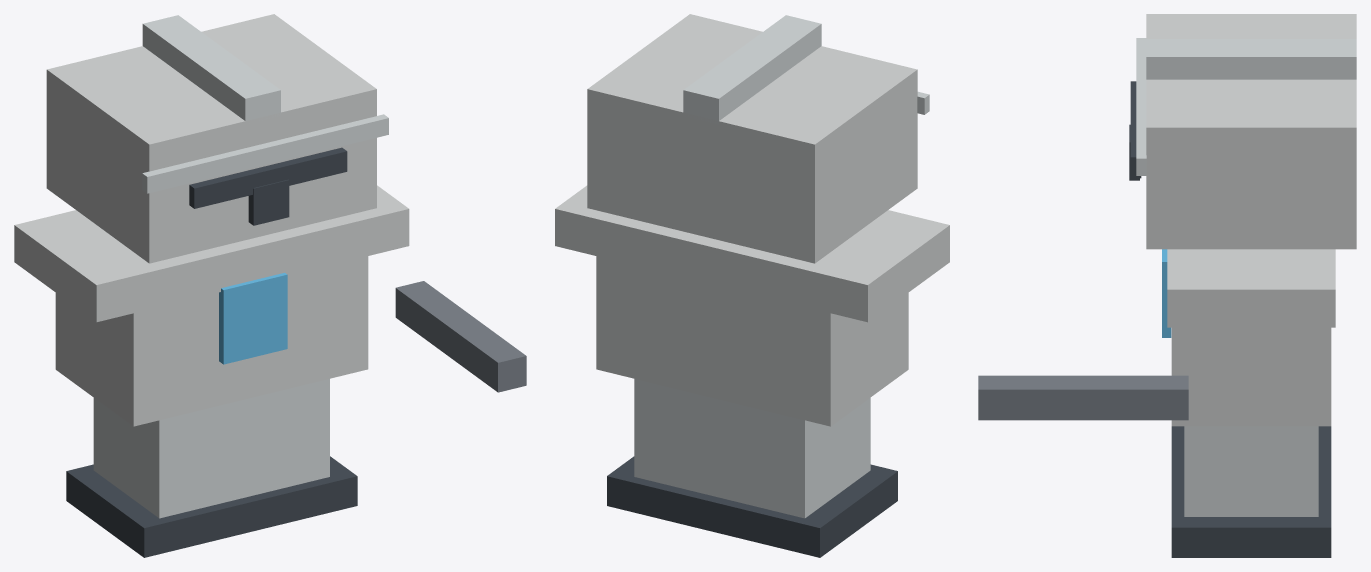
File: cubecraft_clone_rifleman_01.glb
The picture shows the model from 3 angles, left to right: view 1: azimuth 30°, elevation 25°; view 2: azimuth 150°, elevation 25°; view 3: azimuth 270°, elevation 25°; orthographic projection. The views are drawn at different scales.
Visible parts, largest first — view 1: helmet, torso, shoulders, legs, boots, blaster, helmet_fin, helmet_brow, chest_panel, visor_bar, visor_drop; view 2: helmet, torso, shoulders, legs, boots, helmet_fin; view 3: helmet, torso, shoulders, legs, blaster, boots, helmet_fin, helmet_brow, visor_bar, chest_panel.
Part boxes in pixels (x1=…): helmet: x1=46, y1=14, x2=376, y2=263; torso: x1=55, y1=256, x2=368, y2=426; shoulders: x1=14, y1=185, x2=409, y2=322; legs: x1=93, y1=379, x2=329, y2=518; boots: x1=66, y1=456, x2=357, y2=557; blaster: x1=395, y1=281, x2=526, y2=392; helmet_fin: x1=142, y1=15, x2=280, y2=123; helmet_brow: x1=142, y1=114, x2=388, y2=193; chest_panel: x1=219, y1=272, x2=287, y2=364; visor_bar: x1=189, y1=147, x2=347, y2=208; visor_drop: x1=248, y1=179, x2=289, y2=225; helmet: x1=587, y1=14, x2=917, y2=263; torso: x1=596, y1=256, x2=908, y2=426; shoulders: x1=555, y1=185, x2=949, y2=322; legs: x1=634, y1=379, x2=870, y2=518; boots: x1=607, y1=456, x2=897, y2=557; helmet_fin: x1=683, y1=15, x2=821, y2=124; helmet: x1=1146, y1=14, x2=1356, y2=249; torso: x1=1171, y1=327, x2=1331, y2=426; shoulders: x1=1167, y1=249, x2=1335, y2=327; legs: x1=1184, y1=426, x2=1318, y2=516; blaster: x1=978, y1=375, x2=1188, y2=420; boots: x1=1171, y1=426, x2=1331, y2=557; helmet_fin: x1=1146, y1=39, x2=1356, y2=79; helmet_brow: x1=1136, y1=38, x2=1146, y2=175; visor_bar: x1=1130, y1=81, x2=1141, y2=178; chest_panel: x1=1162, y1=249, x2=1171, y2=337.
Size of the model in its own units: 9.5 by 12 by 9.
